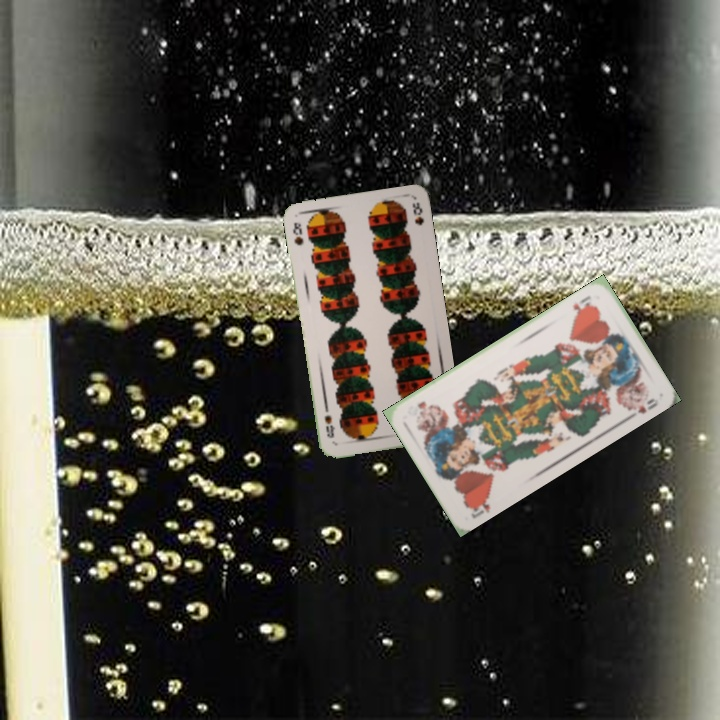HO: (463, 492, 493, 521), (569, 291, 595, 319)
S8: (289, 218, 306, 248)
